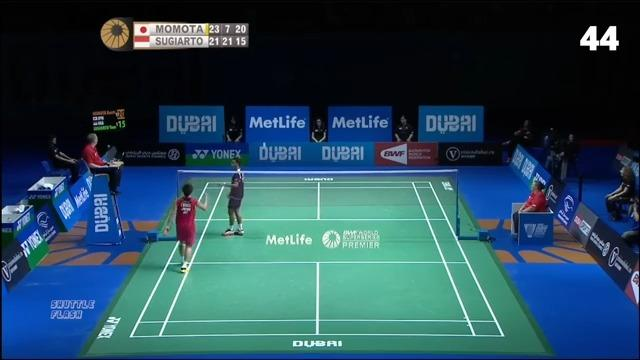Shuttlecock: (260, 141, 270, 149)
